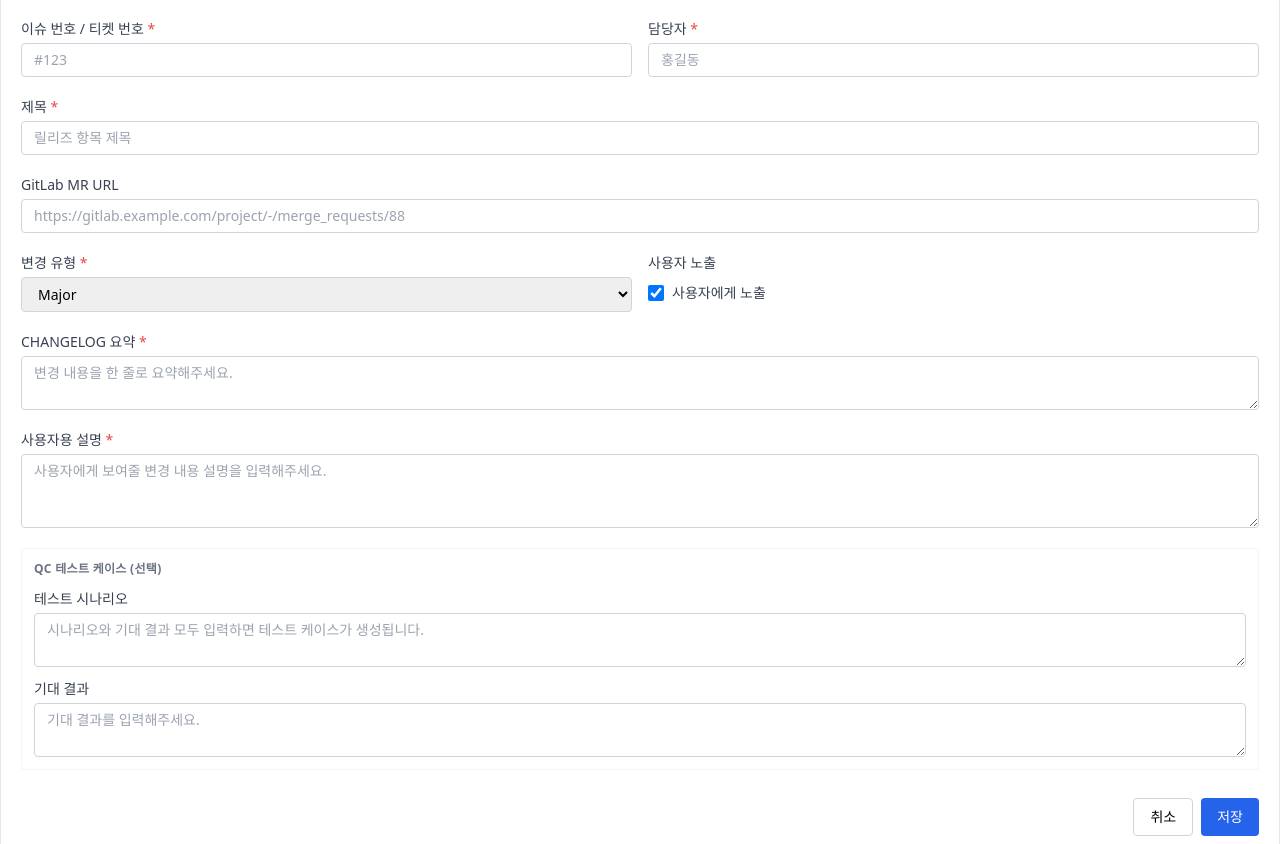
Test: ReleaseItemForm › 검증 에러 표시 후 GitLab Issue를 선택하면 자동 채움 필드 에러가 해소된다
(page scrolled)
Click the button "저장" at [1230, 817], box [1201, 798, 1259, 836]
(page scrolled)
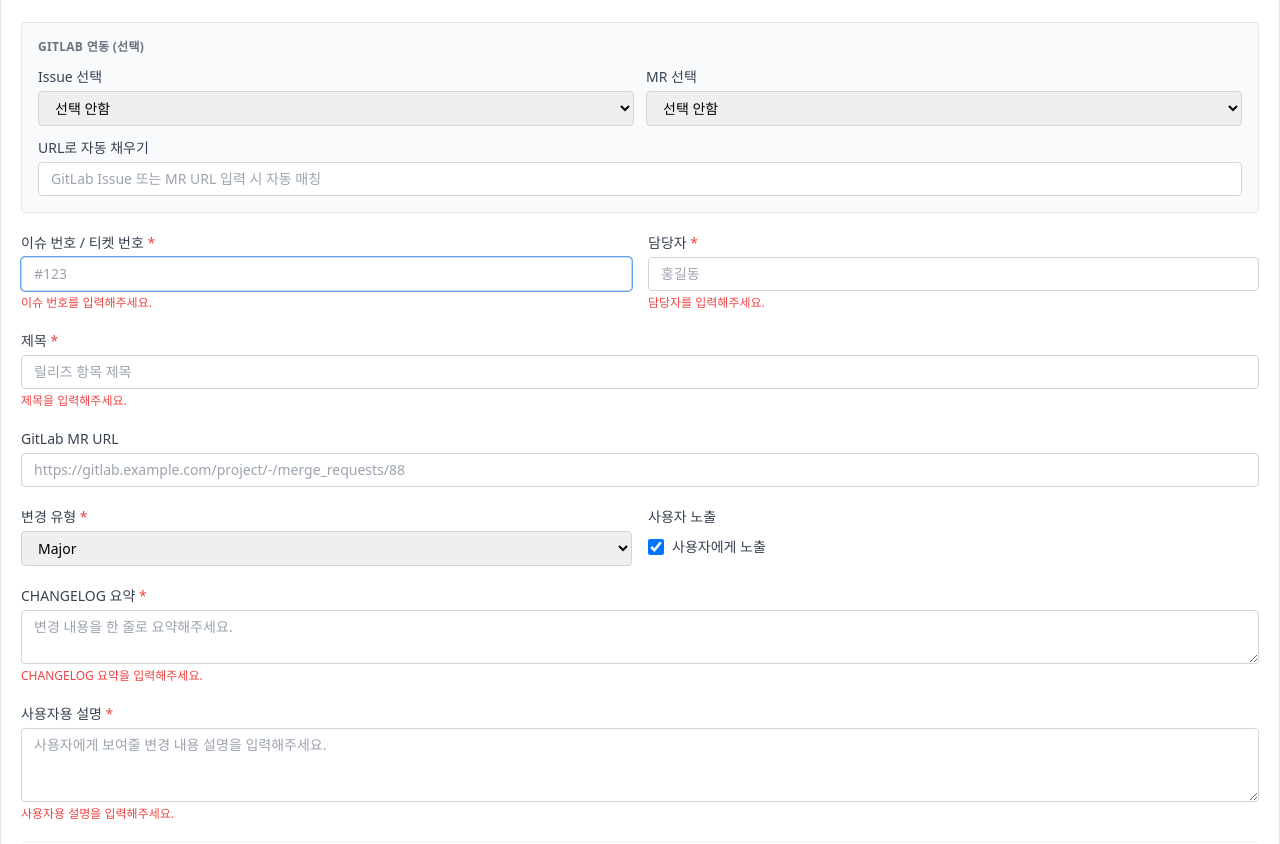
Expected: the text "이슈 번호를 입력해주세요." is shown, [21, 294, 152, 311]
Expected: the text "제목을 입력해주세요." is shown, [21, 392, 127, 409]
Expected: the text "담당자를 입력해주세요." is shown, [648, 294, 765, 311]
Select "#123 로그인 실패 안내 문구 개선" in the dropdown labelled "Issue 선택" at [336, 108], box [38, 91, 634, 126]
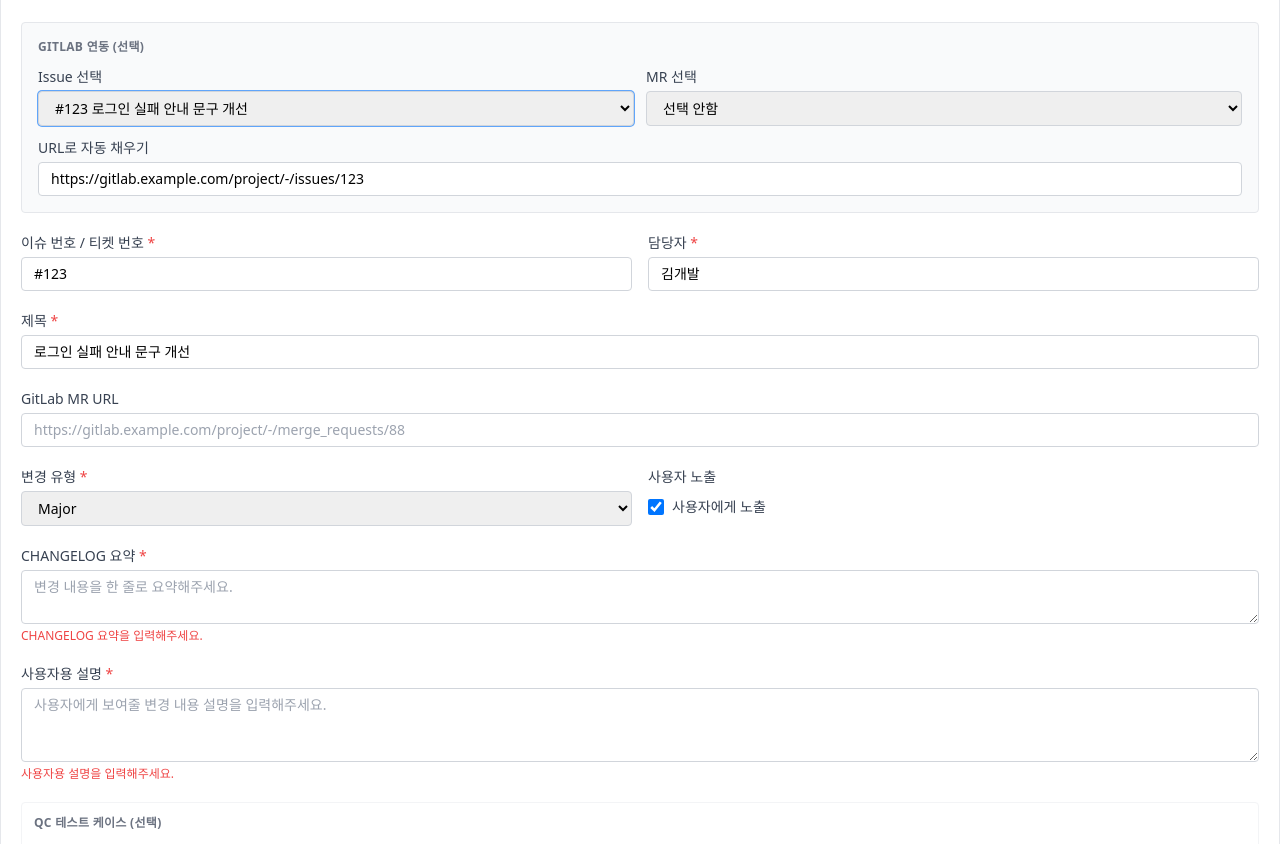
Expected: the text "이슈 번호를 입력해주세요." is gone
Expected: the text "제목을 입력해주세요." is gone
Expected: the text "담당자를 입력해주세요." is gone
